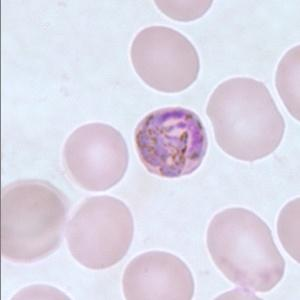Infected: (135, 106, 203, 178)
Uninfected: (208, 207, 286, 290), (208, 77, 283, 160), (0, 177, 70, 263), (66, 196, 131, 269), (132, 26, 199, 94), (66, 122, 128, 192), (125, 252, 194, 300)
